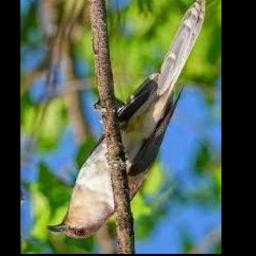Cuckoo: (49, 0, 207, 239)
